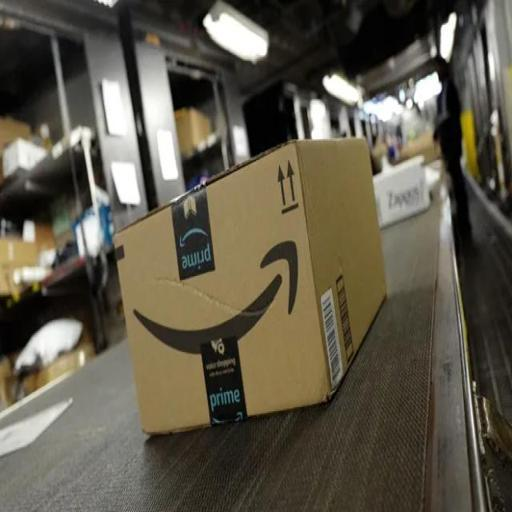Amazon: (108, 138, 405, 435)
